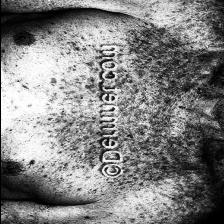Non-Cancerous Skin Condition: (17, 93, 96, 152), (124, 150, 180, 188)
